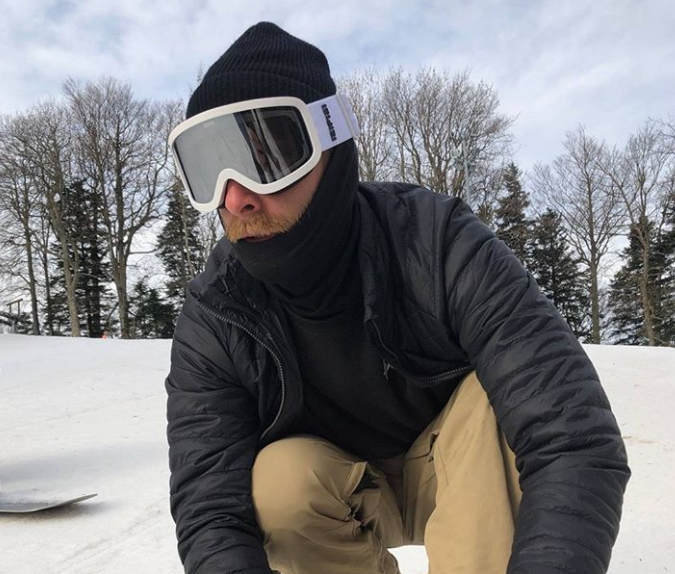with_incorrect_mask: (165, 22, 371, 282)
